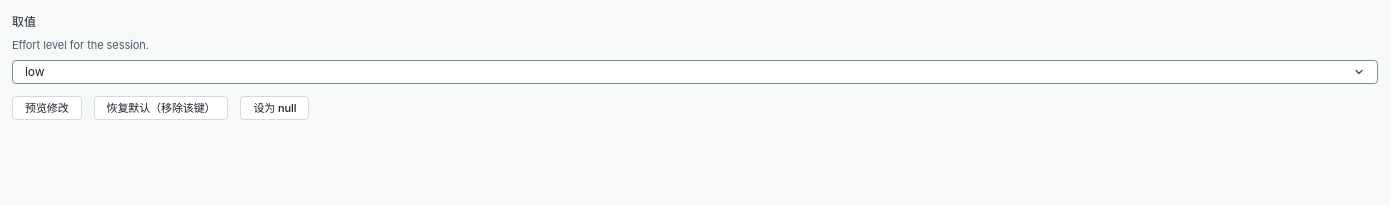
Test: SettingEditor controls › offers a select for an enum, a checkbox for a boolean and a text field for a string
This screenshot has width=1390, height=205.
Step 1. Click the button named "取值" → (35, 72), box [12,60,1378,84]
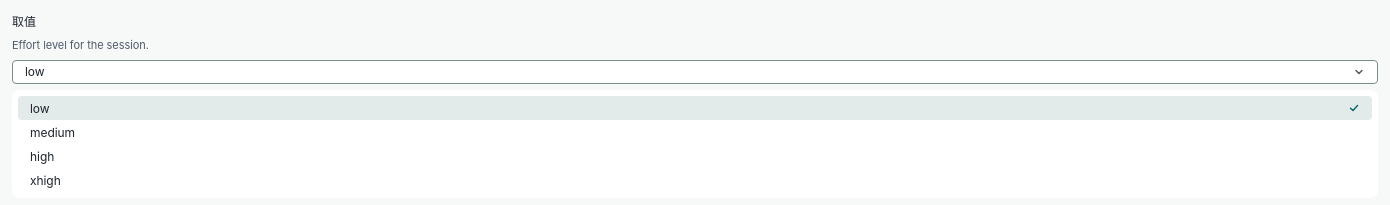
Result: the option "xhigh" is shown at [30,172,61,188]
